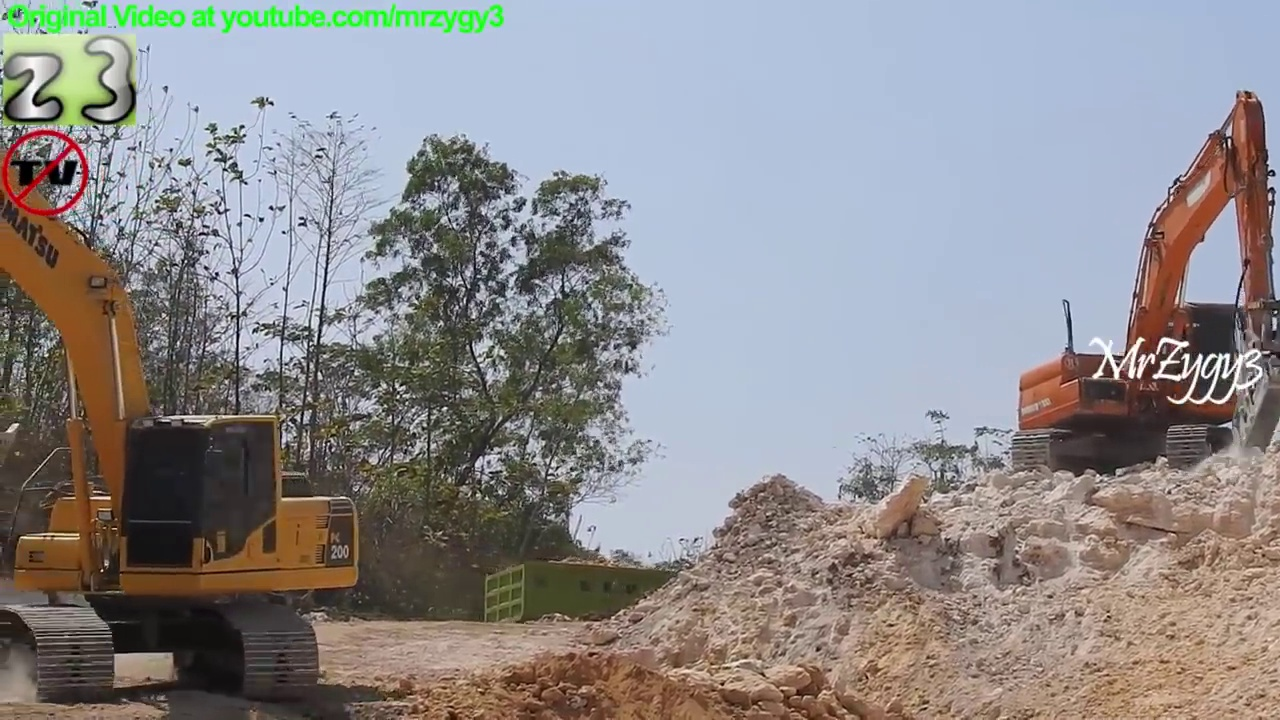excavator: (1, 127, 367, 707), (1009, 82, 1280, 474)
truck: (482, 552, 800, 664)
